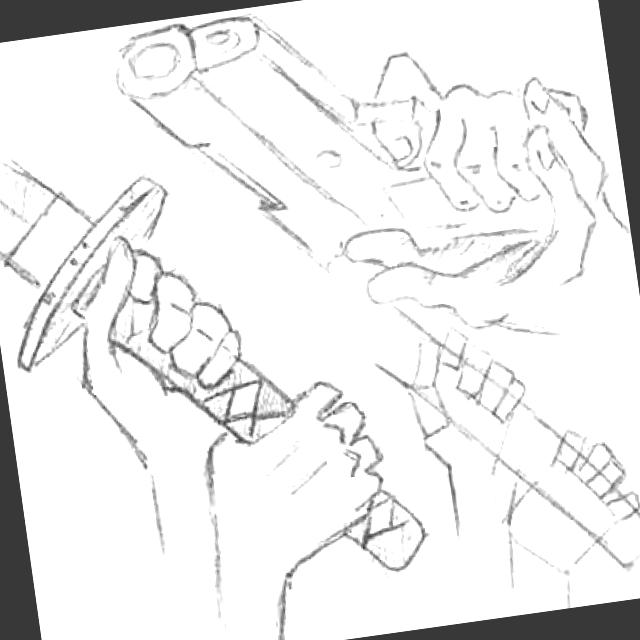handgun: (102, 0, 574, 329)
